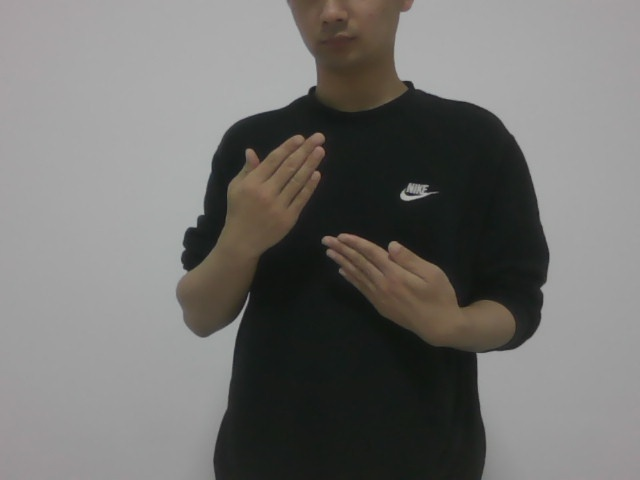tea: (220, 132, 466, 341)
